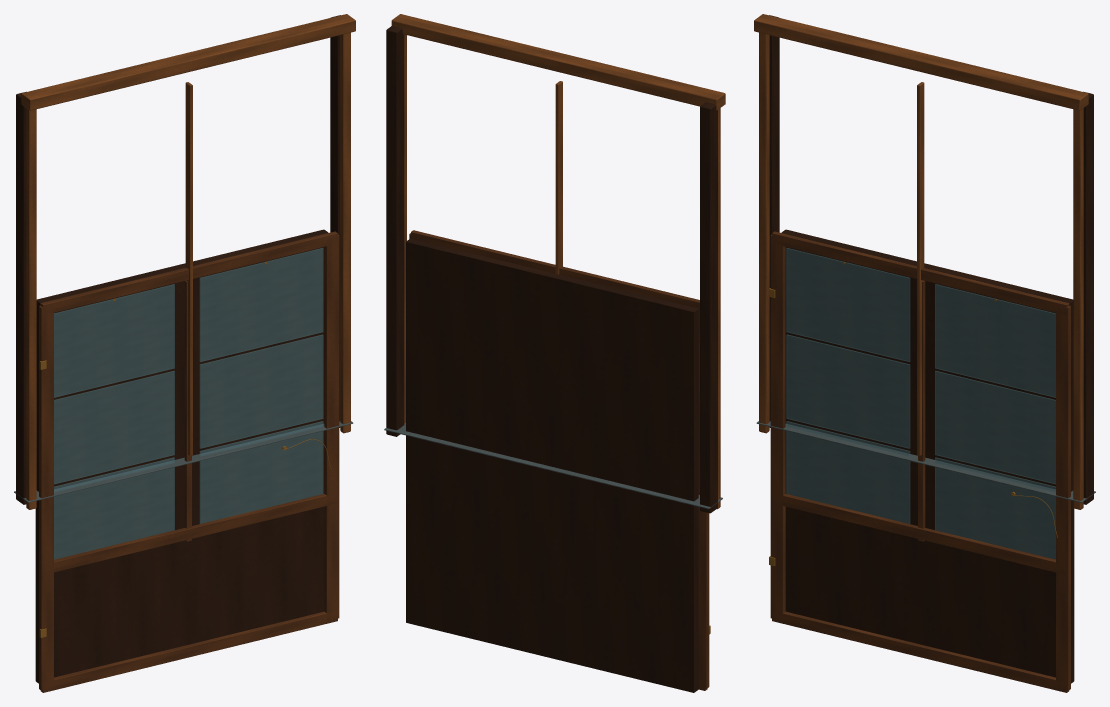
File: asset.glb
3 renders of one model, left to right at view 1: azimuth 30°, elevation 25°; view 2: azimuth 150°, elevation 25°; view 3: azimuth 330°, elevation 25°, orthographic.
Parts seen in each view (by area): view 1: MaterialBatch_Smoke-stained_walnut, MaterialBatch_Low-iron_glass, MaterialBatch_Quarter-sawn_oak, MaterialBatch_Photographic_warm_window_oak, French door sill; view 2: MaterialBatch_Smoke-stained_walnut, MaterialBatch_Photographic_warm_window_oak, MaterialBatch_Quarter-sawn_oak, French door sill; view 3: MaterialBatch_Smoke-stained_walnut, MaterialBatch_Low-iron_glass, MaterialBatch_Quarter-sawn_oak, MaterialBatch_Photographic_warm_window_oak, French door sill.
Part boxes in pixels (bbox=[...]): MaterialBatch_Smoke-stained_walnut: bbox=[16, 15, 340, 683]; MaterialBatch_Low-iron_glass: bbox=[54, 248, 323, 559]; MaterialBatch_Quarter-sawn_oak: bbox=[39, 231, 339, 692]; MaterialBatch_Photographic_warm_window_oak: bbox=[21, 14, 355, 509]; French door sill: bbox=[14, 421, 353, 502]; MaterialBatch_Smoke-stained_walnut: bbox=[386, 25, 717, 692]; MaterialBatch_Photographic_warm_window_oak: bbox=[391, 14, 725, 509]; MaterialBatch_Quarter-sawn_oak: bbox=[409, 230, 709, 690]; French door sill: bbox=[384, 423, 722, 509]; MaterialBatch_Smoke-stained_walnut: bbox=[769, 15, 1093, 683]; MaterialBatch_Low-iron_glass: bbox=[786, 248, 1055, 559]; MaterialBatch_Quarter-sawn_oak: bbox=[770, 231, 1070, 692]; MaterialBatch_Photographic_warm_window_oak: bbox=[754, 14, 1088, 509]; French door sill: bbox=[756, 421, 1095, 502].
Bounding box in the file's own units: 71.04 × 125 × 6.26.
Materials: 6 (6 with a texture image).
